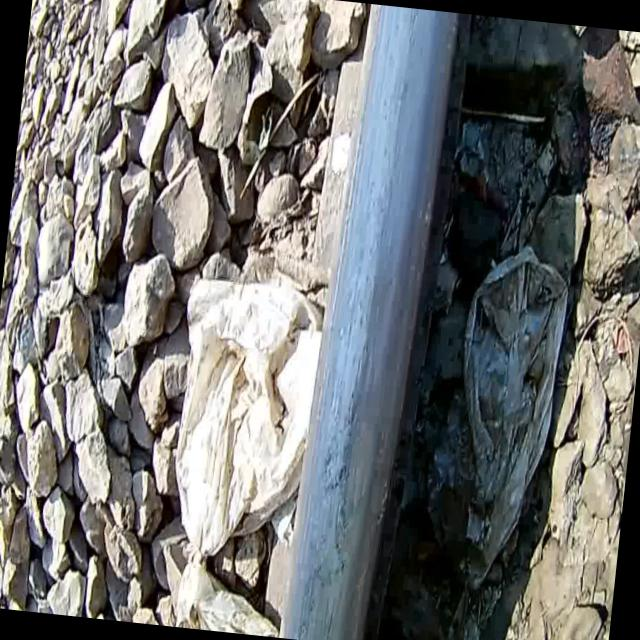Squats: (265, 0, 480, 640)
